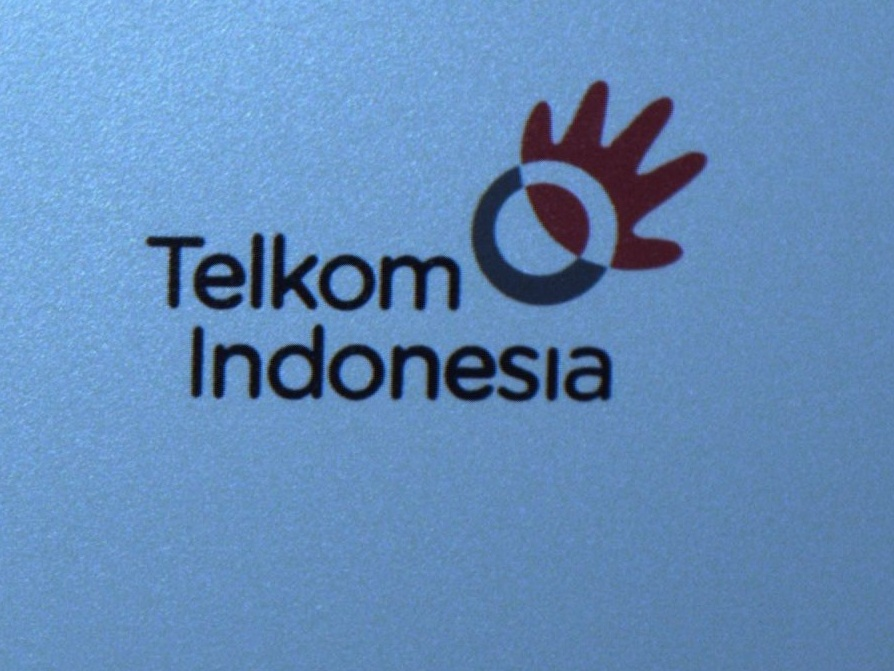BQ_IndonTelkom: (146, 80, 710, 406)
